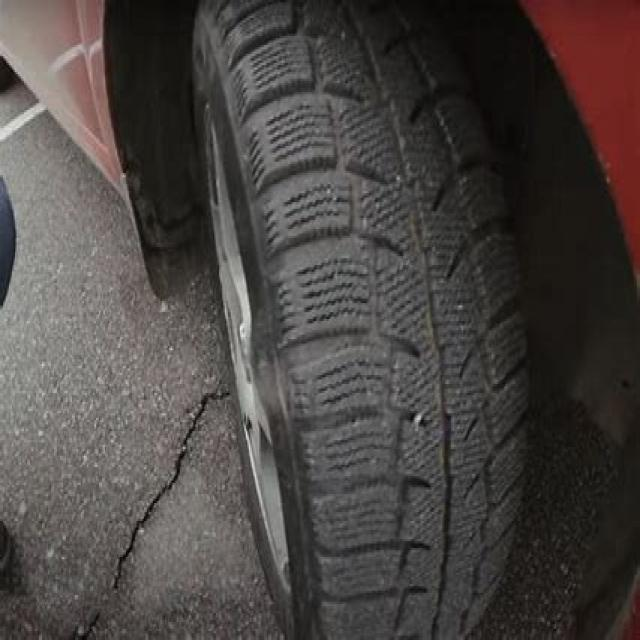Bulge: (244, 282, 305, 457)
